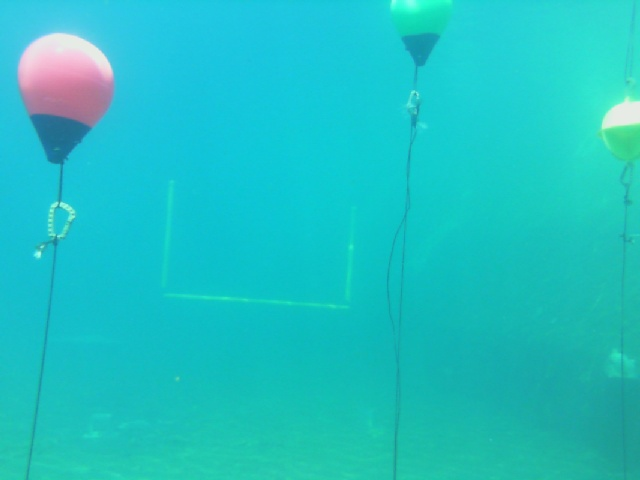buoy_red: (10, 20, 116, 177)
channel: (158, 177, 362, 317)
